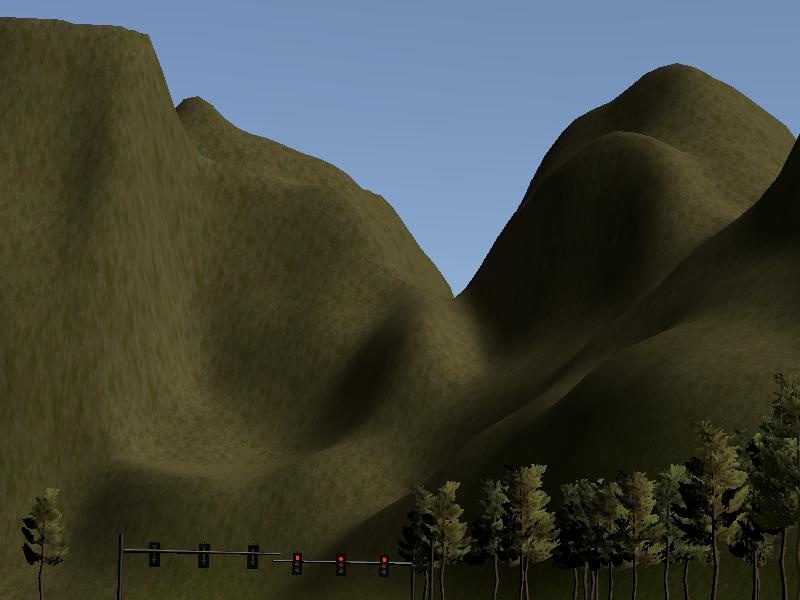red: (291, 549, 302, 576), (378, 553, 390, 577), (337, 552, 346, 579)
